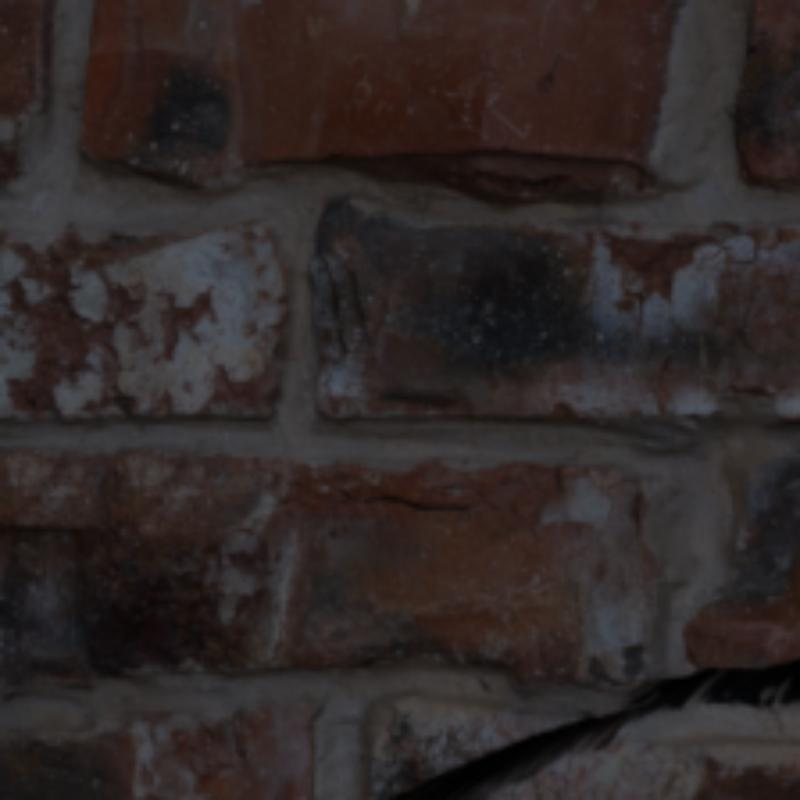crack: (382, 654, 796, 796)
